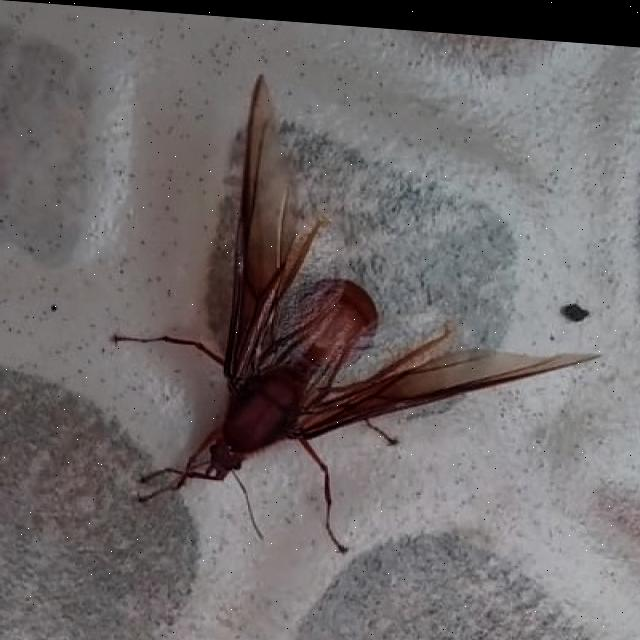Alive-Male-Alate: (108, 60, 604, 567)
